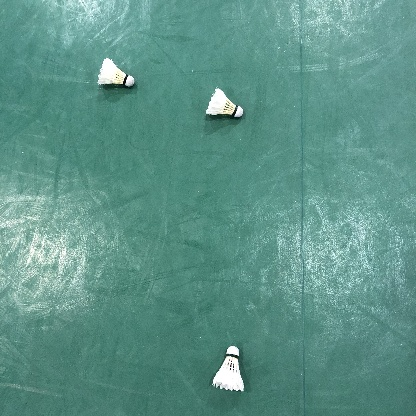ball_single: (212, 346, 244, 391), (206, 87, 243, 117), (97, 58, 135, 87)
